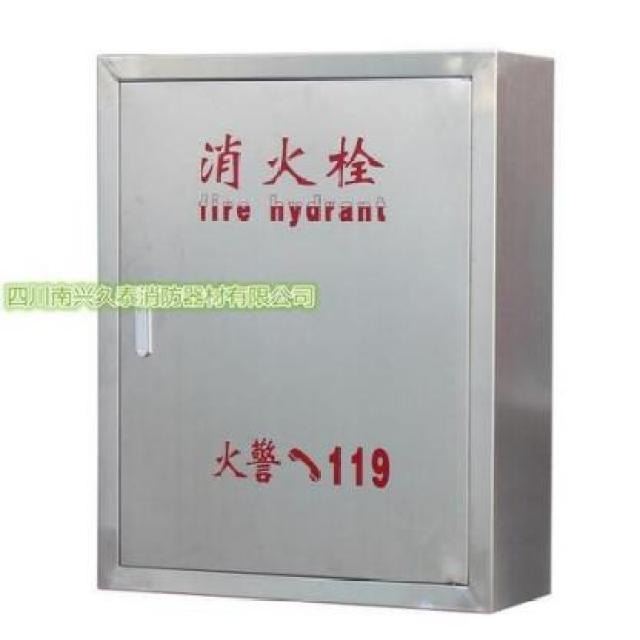firehydrant: (88, 41, 560, 618)
